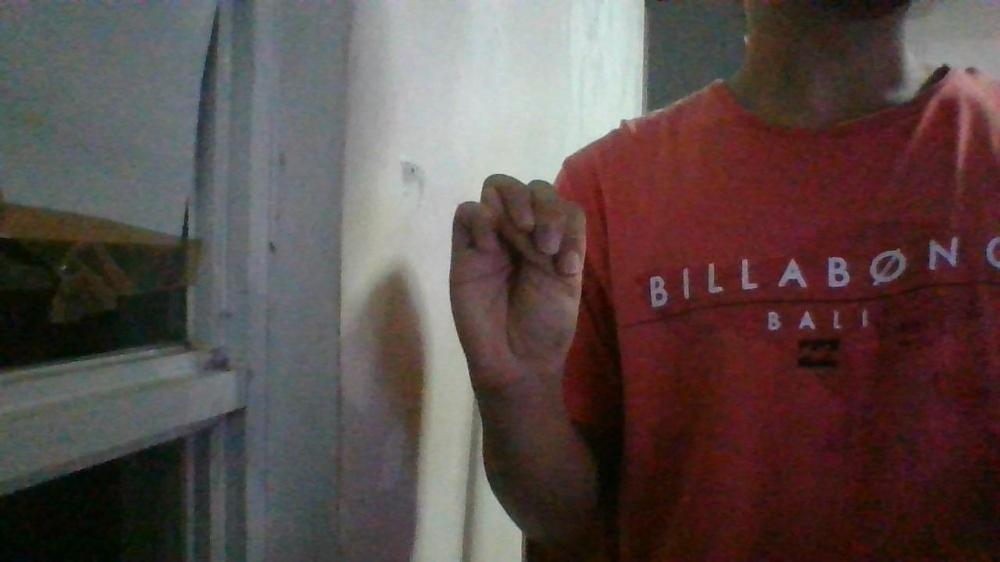m: (448, 172, 588, 391)
